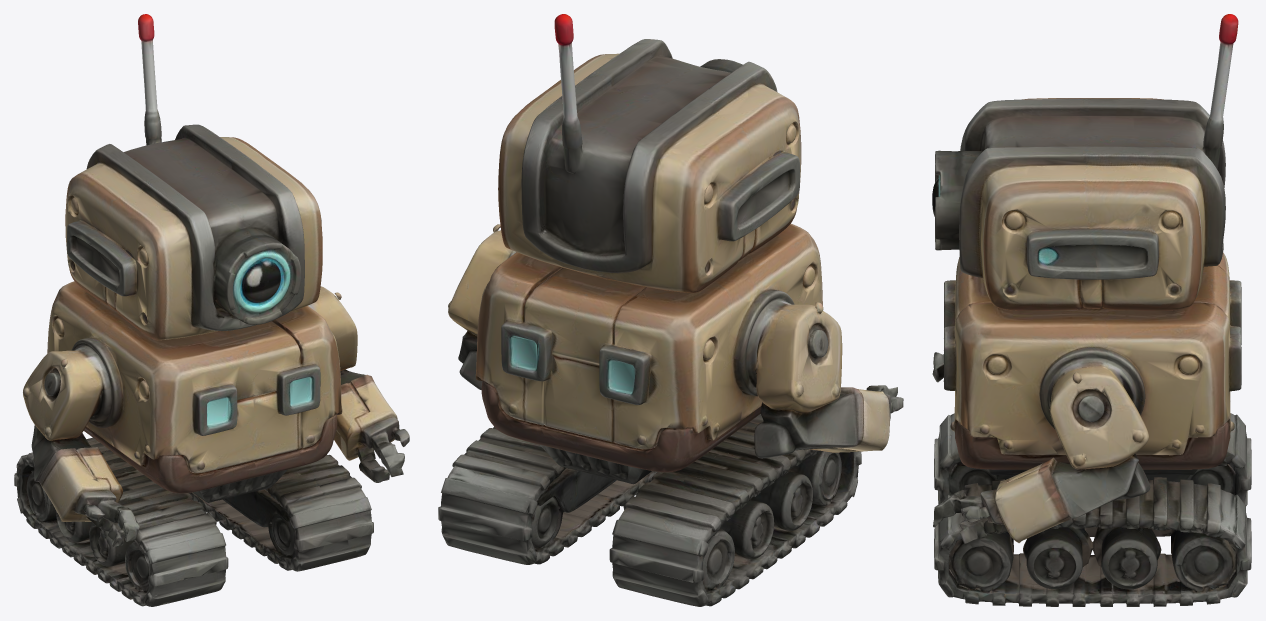
The model's file is robot.glb.
3 renders of one model, left to right at view 1: azimuth 30°, elevation 25°; view 2: azimuth 150°, elevation 25°; view 3: azimuth 270°, elevation 25°, orthographic. The views are drawn at different scales.
Parts seen in each view (by area): view 1: mesh_node; view 2: mesh_node; view 3: mesh_node.
Part boxes in pixels (x1,y1,x2,y2): mesh_node: (14, 14, 409, 606); mesh_node: (438, 14, 903, 606); mesh_node: (932, 14, 1251, 606).
Size of the model in its own units: 1.39 by 1.9 by 1.02.
1 material, 1 textured.
